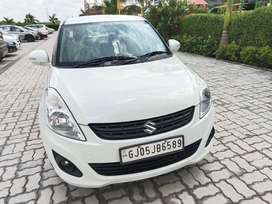GJ05JB6589: (121, 136, 183, 163)
